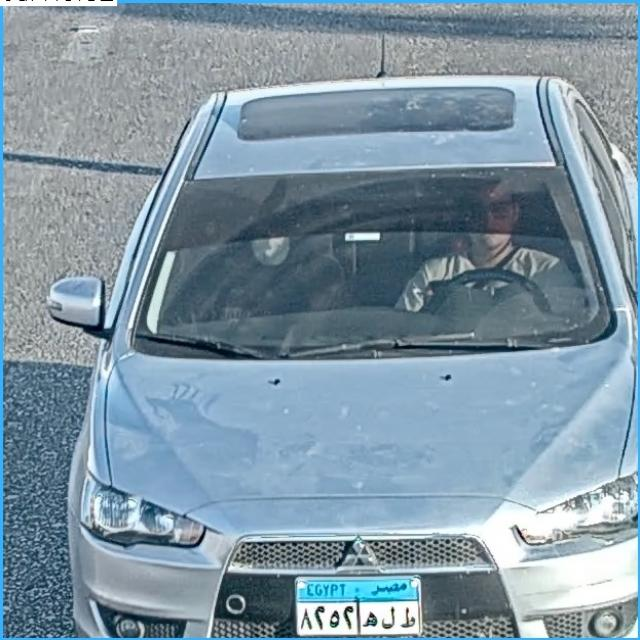windshield: (138, 174, 608, 345)
